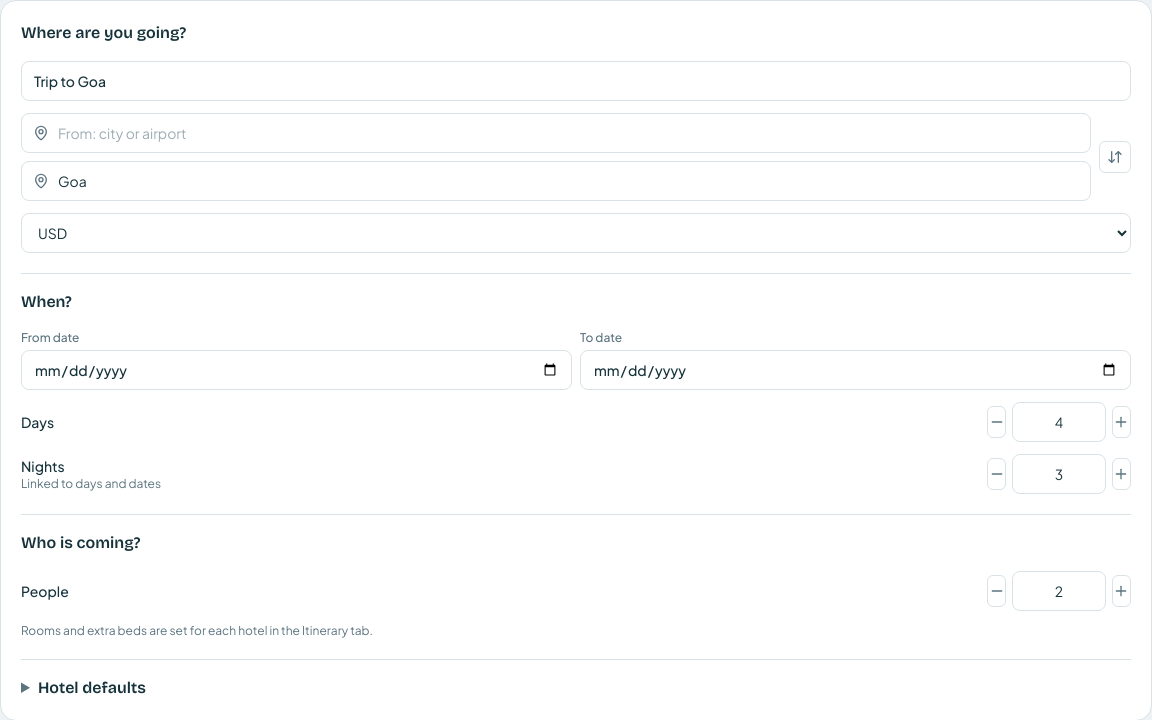
Test: LocationCombobox and dates in TripForm › links the dates to days and nights
Type "2026-10-12" into the date field labelled "From date" at (296, 370), box [21,350,572,390]
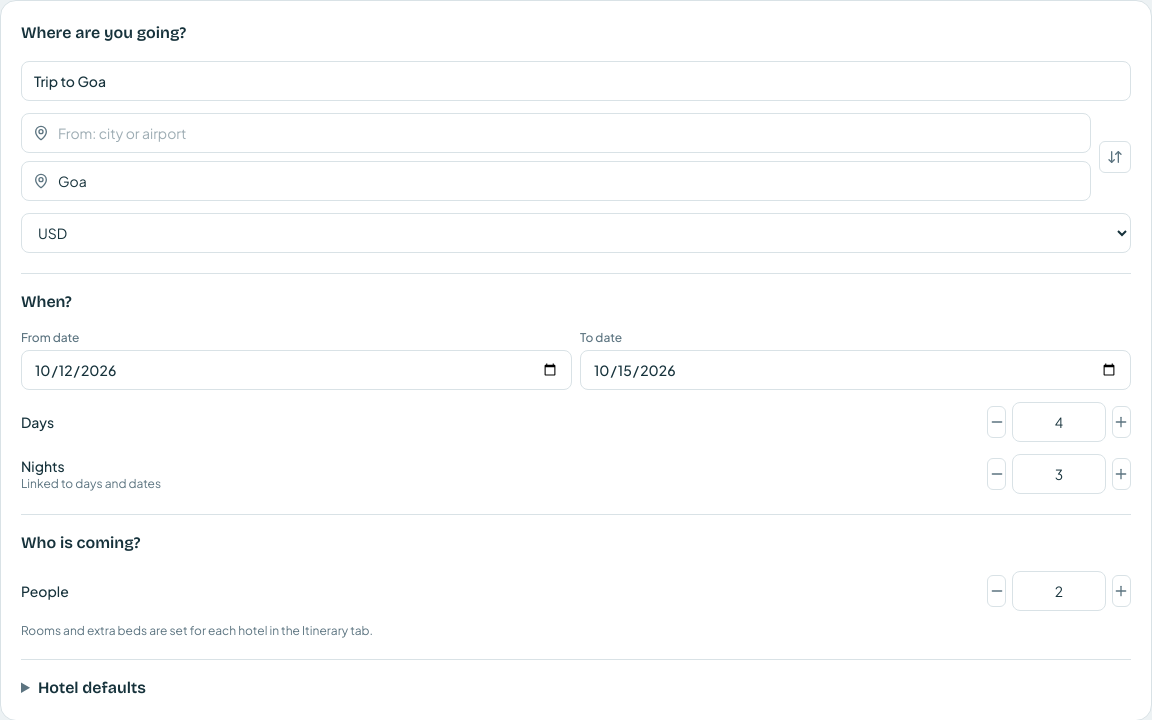
Now the date field labelled "To date" holds "2026-10-15"
Type "2026-10-19" into the date field labelled "To date" at (856, 370), box [580,350,1131,390]
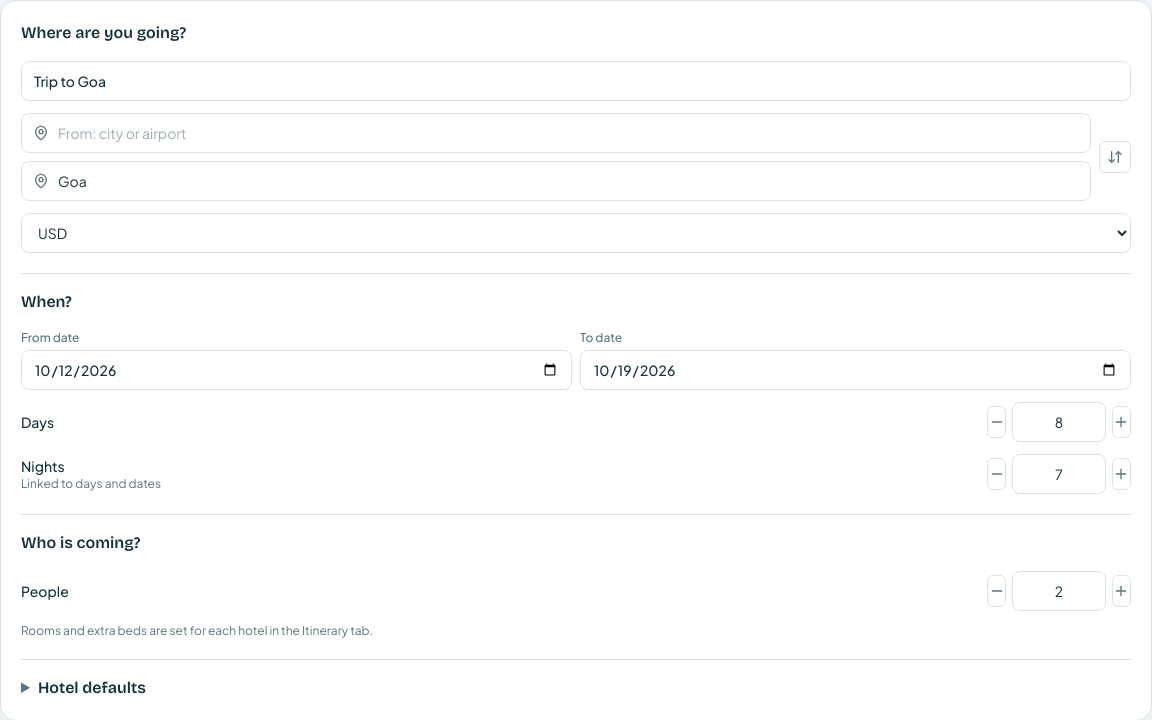
Replace the text in the number field named "Days" with "3" at (1059, 422), box [1012,402,1106,442]
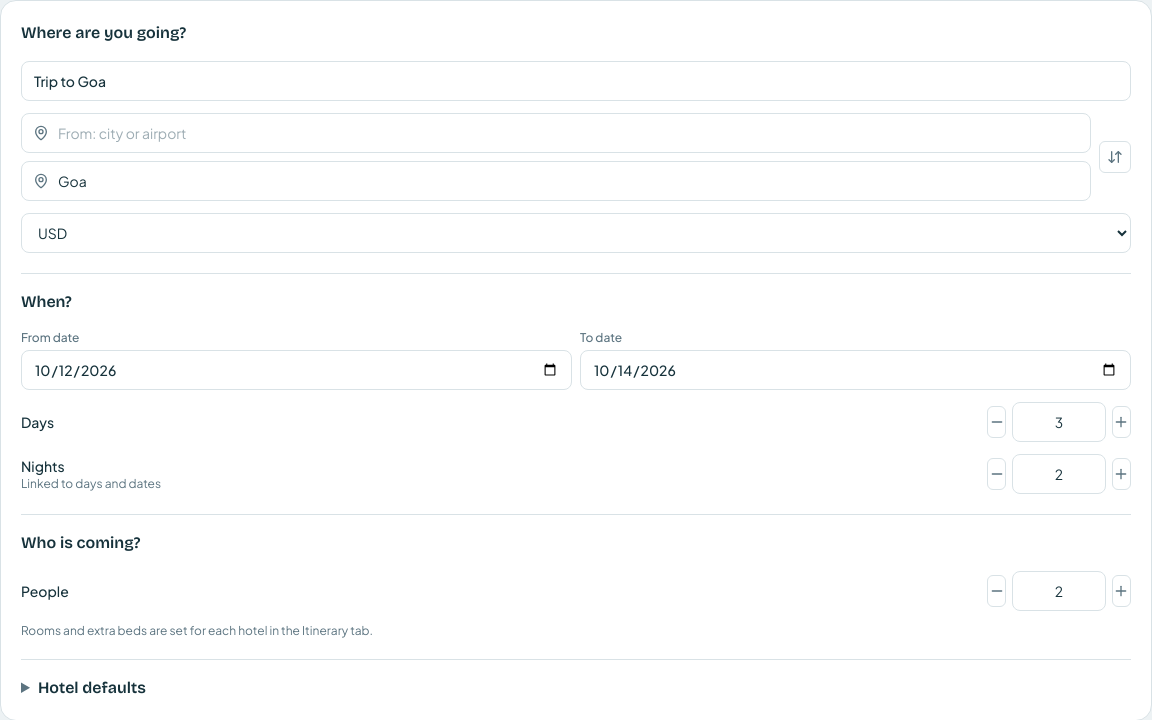
Now the date field labelled "To date" holds "2026-10-14", box [580,350,1131,390]
